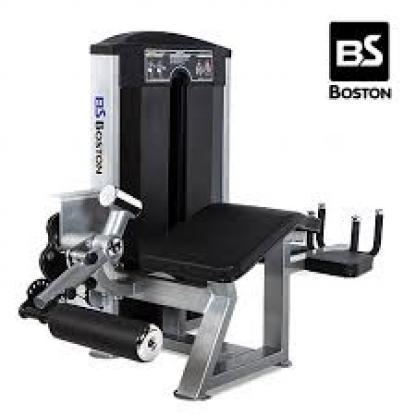reg curl machine: (5, 29, 397, 401)
